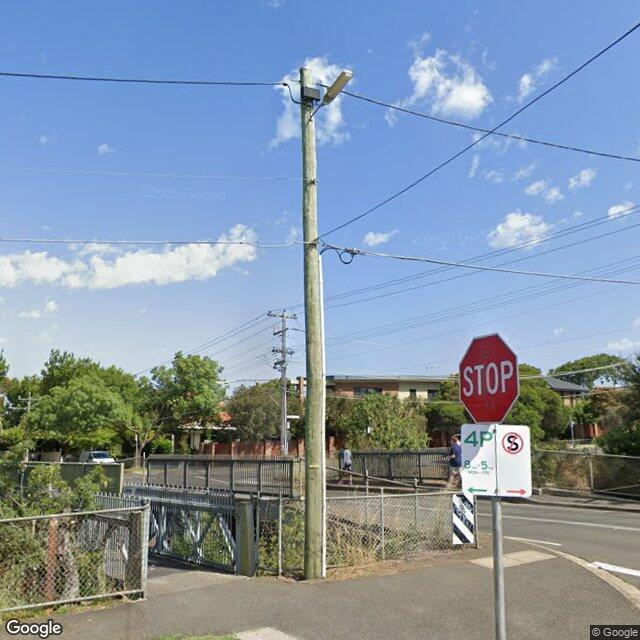HV-transmission: (268, 309, 298, 320)
concrete-pole: (281, 308, 287, 456)
crossarm: (272, 346, 295, 356), (268, 314, 298, 320), (273, 327, 289, 335), (274, 360, 285, 365)
streetlight: (309, 70, 354, 122)
timber-pole: (299, 68, 325, 580)
